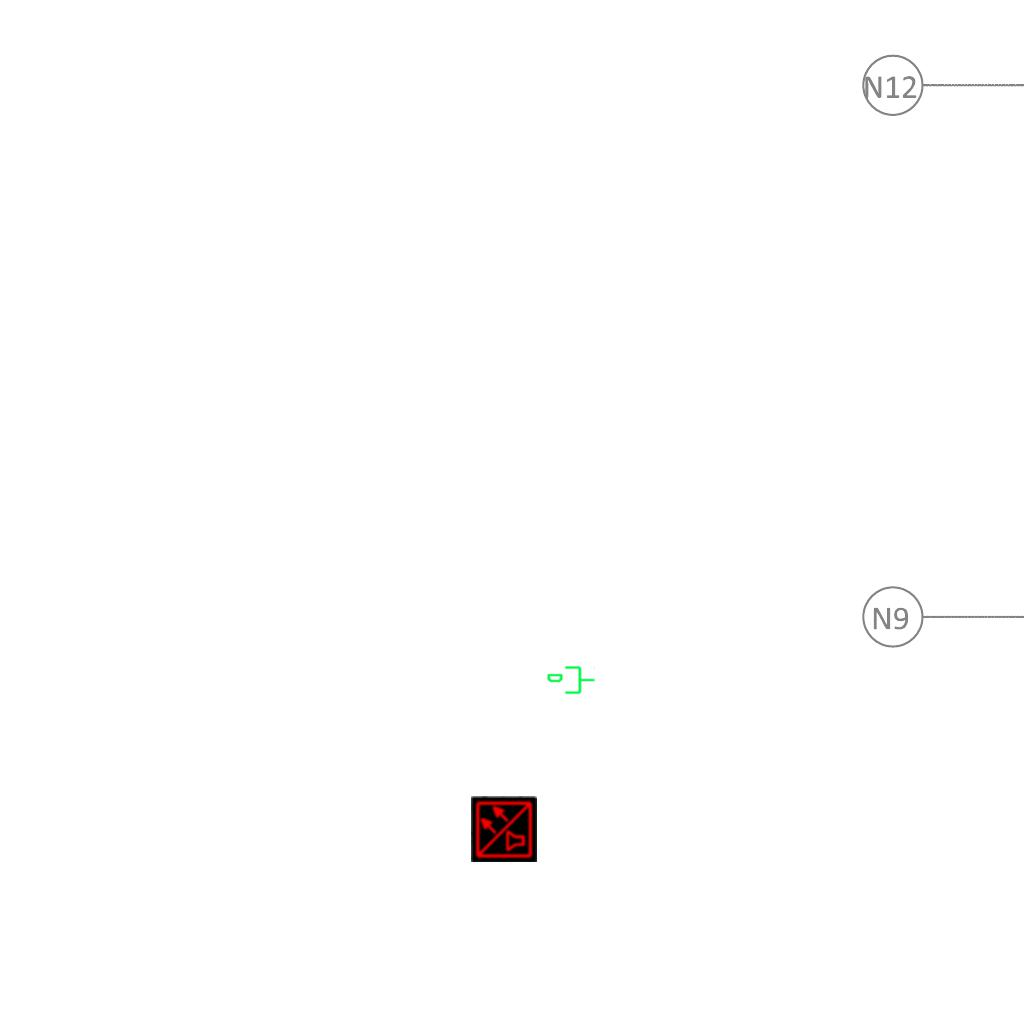Datenanschluss_einfach: (546, 664, 596, 698)
OKW_Multisensormelder_(Kombination_optischer_Rauch-Kahlenmonoxid_Waerme-Melder): (471, 796, 537, 862)
